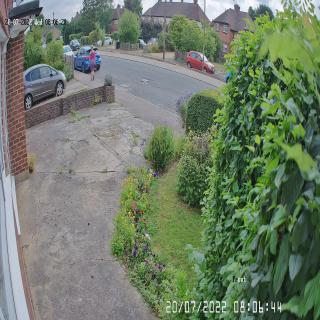car: (24, 64, 68, 110), (73, 45, 101, 73), (186, 52, 216, 75), (62, 46, 74, 60), (69, 38, 80, 50)
person: (88, 45, 96, 81)
